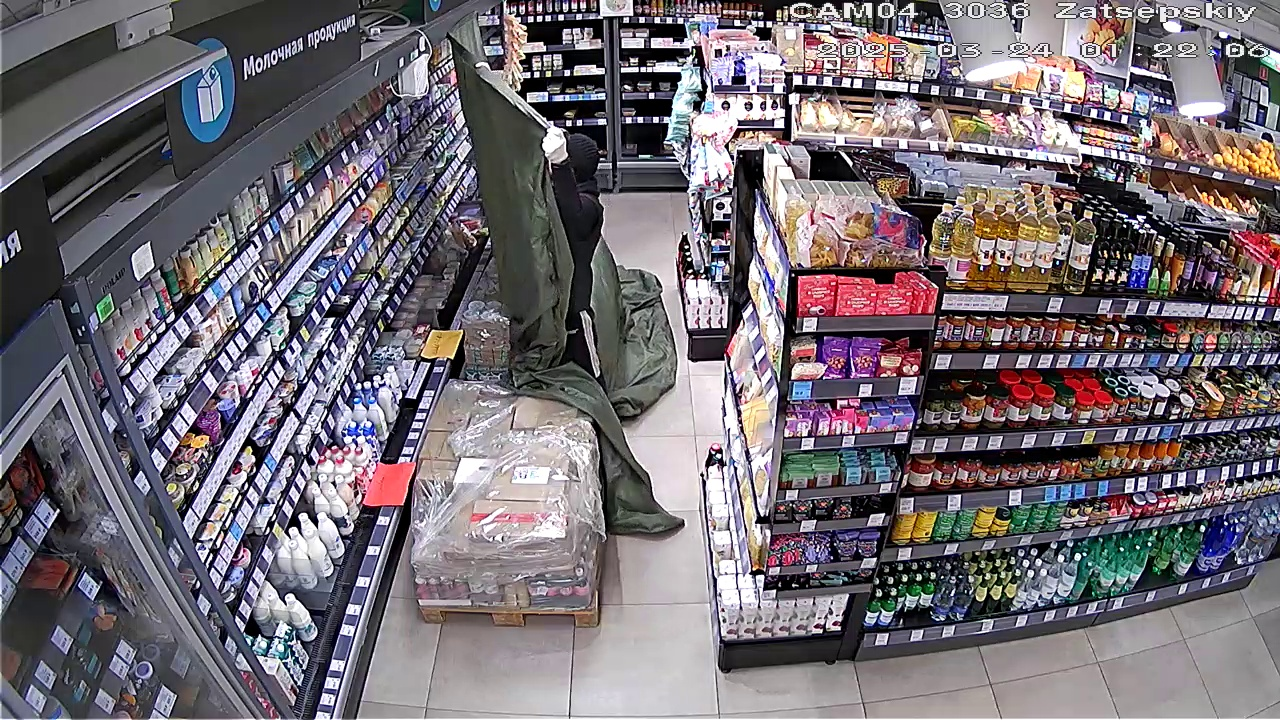Human: (537, 115, 607, 370)
pallet: (419, 368, 598, 621)
